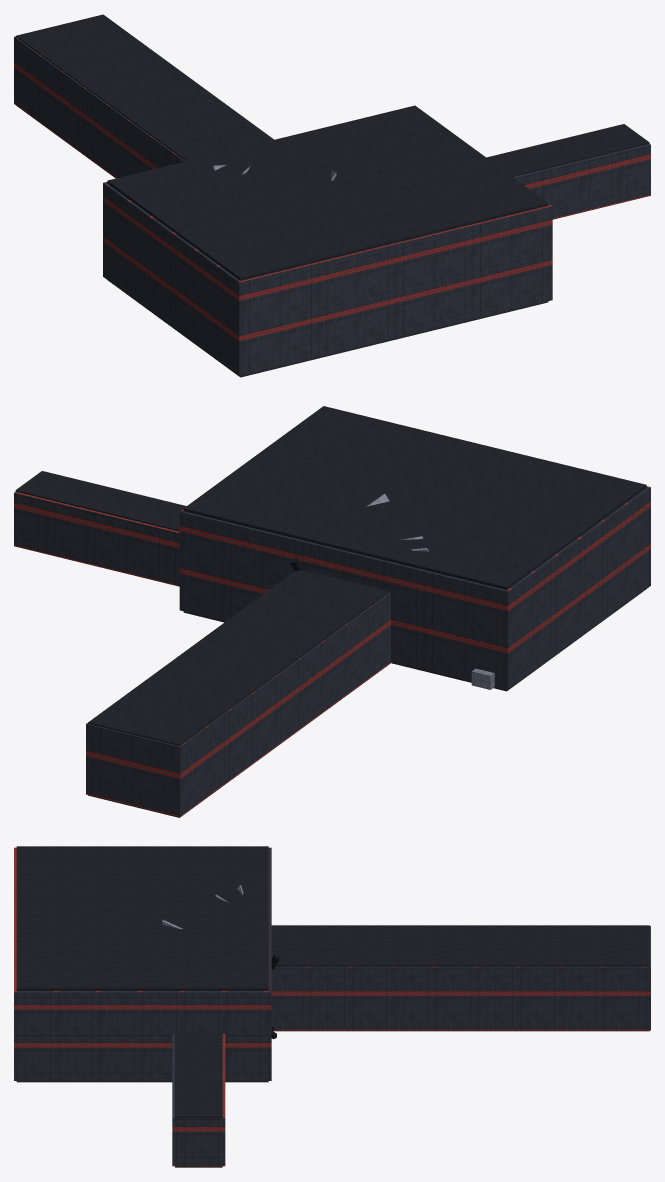
File: facility.glb
The picture shows the model from 3 angles, top to bottom: view 1: azimuth 30°, elevation 25°; view 2: azimuth 150°, elevation 25°; view 3: azimuth 270°, elevation 25°; orthographic projection. The views are drawn at different scales.
Visible parts, largest first — view 1: Facility; view 2: Facility; view 3: Facility.
Boxes of the visible parts, x1,y1,x2,y2 form: Facility: (14, 14, 650, 377); Facility: (14, 406, 650, 817); Facility: (14, 846, 650, 1167).
Bounding box in the file's own units: 38.6 × 8.14 × 45.5.
Materials: 13 (13 with a texture image).
